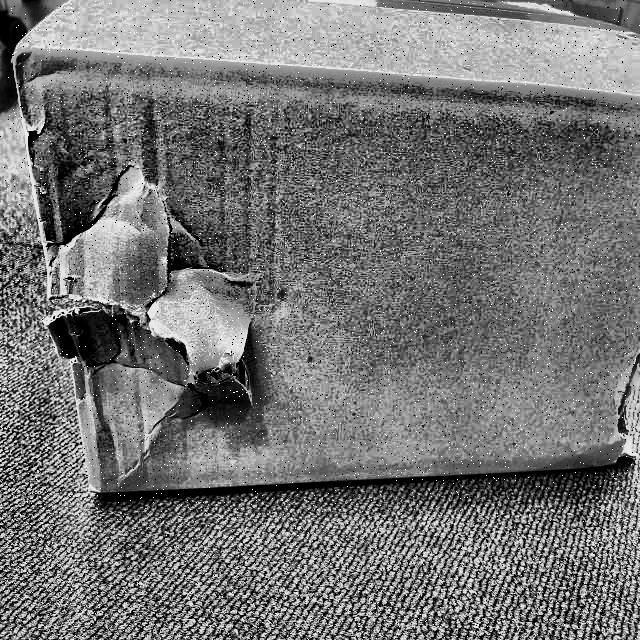box: (0, 0, 640, 522)
hole: (56, 166, 262, 415)
